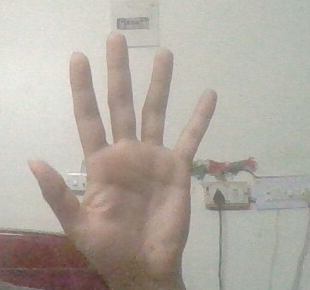move: (26, 30, 217, 286)
